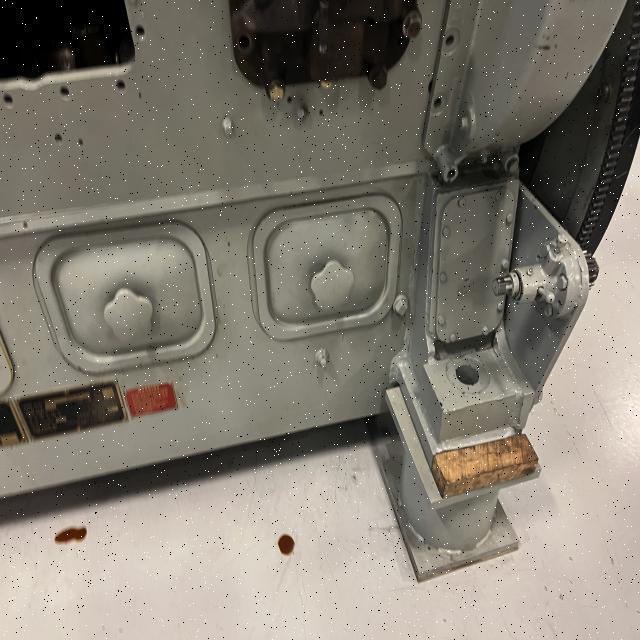Oil Leak: (53, 525, 88, 544), (276, 532, 296, 557)
